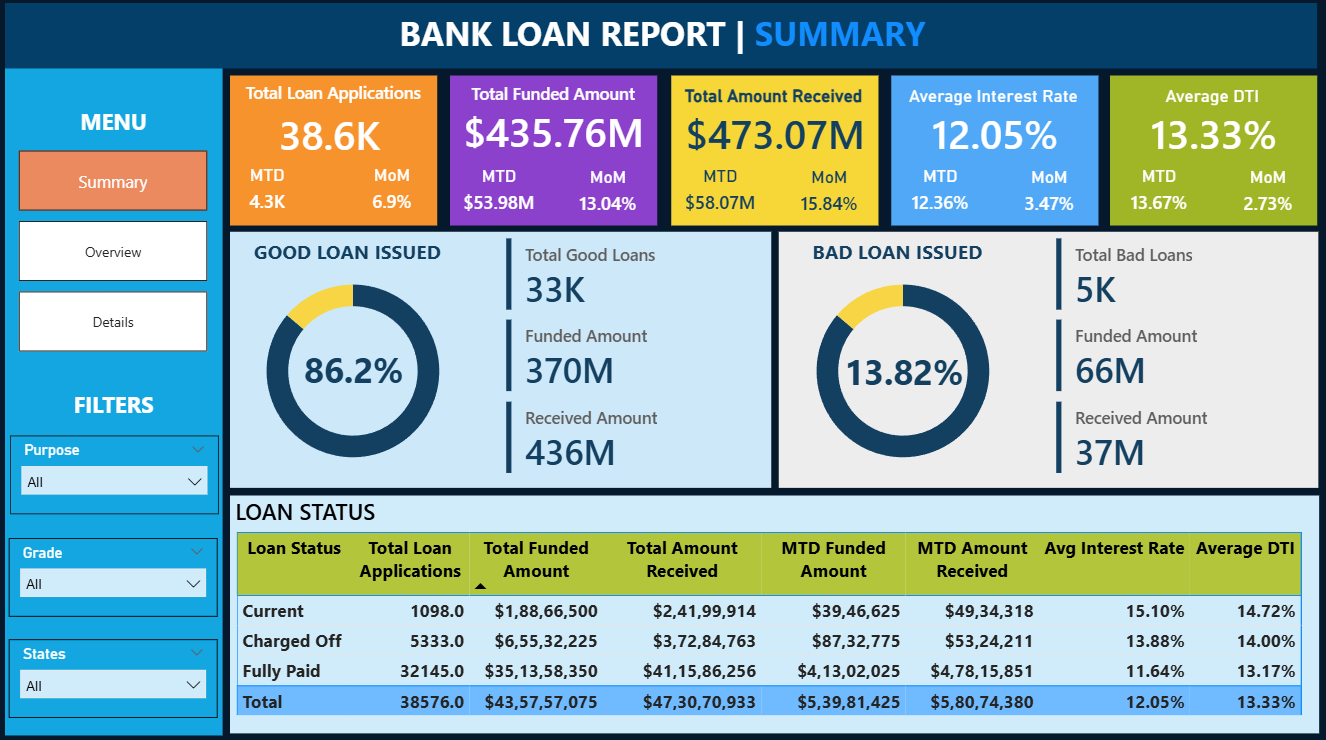

What the dashboard file says about the page in this screenshot:
{"tool":"powerbi","page":{"name":"Summary","canvas":[1280,720],"ordinal":0},"visuals":[{"type":"shape","box":[4.3,4.3,210,707],"z":0},{"type":"group","id":"g1","title":"Total Amount Received","box":[222,74.6,200,145],"z":0,"group":"g8"},{"type":"shape","box":[222,74.6,200,145],"z":0,"group":"g1"},{"type":"shape","box":[434.3,74.6,200,145],"z":0,"group":"g5"},{"type":"shape","box":[648.5,74.6,200,145],"z":0,"group":"g6"},{"type":"shape","box":[860.2,74.6,200,145],"z":0,"group":"g7"},{"type":"shape","box":[1071.6,74.6,200,145],"z":0,"group":"g9"},{"type":"group","id":"g2","title":"Group 2","box":[751.8,225.9,521.2,247.3],"z":0,"group":"g11"},{"type":"shape","box":[751.8,225.9,521.2,247.3],"z":0,"group":"g14"},{"type":"group","id":"g3","title":"Group 2","box":[222,226.9,522.4,247.3],"z":0,"group":"g4"},{"type":"shape","box":[222,226.9,522.4,247.3],"z":0,"group":"g15"},{"type":"group","id":"g4","title":"Good Loan Group","box":[222,226.4,522.3,248.2],"z":500,"group":"g10"},{"type":"shape","box":[4.3,4.3,1266.7,63.5],"z":1000},{"type":"group","id":"g5","title":"Total Funded Amount","box":[434.3,74.6,200,145],"z":1000,"group":"g8"},{"type":"card","fields":{"Values":["KPI measure.Total Funded Amount"]},"box":[440.1,107.6,188.3,42.4],"z":1000,"group":"g5"},{"type":"card","fields":{"Values":["KPI measure.Total Amount Received"]},"box":[654.1,108.4,188.8,43.7],"z":1000,"group":"g6"},{"type":"card","fields":{"Values":["KPI measure.Avg Interest Rate"]},"box":[865.8,108.4,188.8,43.7],"z":1000,"group":"g7"},{"type":"card","fields":{"Values":["KPI measure.Average DTI"]},"box":[1077.2,108.4,188.8,43.7],"z":1000,"group":"g9"},{"type":"card","fields":{"Values":["KPI measure.Total Loan Applications"]},"box":[248.9,111.1,139.2,41.3],"z":1000,"group":"g1"},{"type":"textbox","title":"GOOD LOAN ISSUED","box":[240.3,232.4,190.6,29],"z":1000,"group":"g4"},{"type":"textbox","title":"BAD LOAN ISSUED","box":[771.3,232.5,190.6,29],"z":1000,"group":"g11"},{"type":"textbox","box":[373.7,7.2,530.9,53.4],"z":2000},{"type":"group","id":"g6","title":"Total Amount Received","box":[648.5,74.6,200.3,145],"z":2000,"group":"g8"},{"type":"textbox","box":[226.8,75.1,189.4,32.6],"z":2000,"group":"g1"},{"type":"textbox","box":[438.7,76.3,189.4,38.6],"z":2000,"group":"g5"},{"type":"textbox","title":"Total Amount Received","box":[652.7,84.5,190.2,16.9],"z":2000,"group":"g6"},{"type":"textbox","title":"Average Interest Rate","box":[864.4,84.5,190.2,24],"z":2000,"group":"g7"},{"type":"textbox","title":"Average DTI","box":[1075.8,84.5,190.2,24],"z":2000,"group":"g9"},{"type":"donutChart","fields":{"Category":["financial_loan.Good vs Bad Loan"],"Y":["KPI measure.Total Loan Applications"]},"box":[223.4,251.2,235.3,218.4],"z":2000,"group":"g4"},{"type":"donutChart","fields":{"Category":["financial_loan.Good vs Bad Loan"],"Y":["KPI measure.Total Loan Applications"]},"box":[754.3,251.2,235.3,218.4],"z":2000,"group":"g11"},{"type":"group","id":"g7","title":"Average Interest RAte","box":[860.2,74.6,200.3,145],"z":3000,"group":"g8"},{"type":"card","title":"MTD","fields":{"Values":["KPI measure.MTD Loan Applications"]},"box":[231.4,160.7,52.6,55.4],"z":3000,"group":"g1"},{"type":"card","title":"MTD","fields":{"Values":["KPI measure.MTD Total Funded Amount"]},"box":[435.5,161.8,92.4,55.4],"z":3000,"group":"g5"},{"type":"card","title":"MTD","fields":{"Values":["KPI measure.MTD Total Amount Received"]},"box":[649.7,161.8,92.4,55.4],"z":3000,"group":"g6"},{"type":"card","title":"MTD","fields":{"Values":["KPI measure.MTD Average Interest Rate"]},"box":[861.4,161.8,92.4,55.4],"z":3000,"group":"g7"},{"type":"card","title":"MTD","fields":{"Values":["KPI measure.MTD Average DTI"]},"box":[1072.8,161.8,92.4,55.4],"z":3000,"group":"g9"},{"type":"cardVisual","fields":{"Data":["Good Loan Donut chart Measure.Good Loan Applications","Good Loan Donut chart Measure.Good Loan Total Funded Amount","Good Loan Donut chart Measure.Good Loan Total Receieved Amount"]},"box":[484.2,226.4,232.3,243.8],"z":3000,"group":"g4"},{"type":"cardVisual","fields":{"Data":["Bad Loan Donut chart measure.Bad Loan Applications","Bad Loan Donut chart measure.Bad Loan Total Funded Amount","Bad Loan Donut chart measure.Bad Loan Total Receieved Amount"]},"box":[1015.1,226.4,232.3,243.8],"z":3000,"group":"g11"},{"type":"textbox","box":[55.5,372.8,108.6,42.2],"z":3000},{"type":"card","fields":{"Values":["Donut chart Measure.Good Loan %"]},"box":[247.3,339.1,188.2,43.4],"z":3500,"group":"g4"},{"type":"card","fields":{"Values":["Bad Loan Donut chart measure.Bad Loan %"]},"box":[778.2,339.1,188.2,43.4],"z":3500,"group":"g11"},{"type":"group","id":"g8","title":"KPIs","box":[222,74.6,1049.9,145],"z":4000},{"type":"group","id":"g9","title":"Average DTI","box":[1071.6,74.6,200.3,145],"z":4000,"group":"g8"},{"type":"card","title":"MoM","fields":{"Values":["KPI measure.MoM Loan Applications"]},"box":[347.1,160.7,62,55.4],"z":4000,"group":"g1"},{"type":"card","title":"MoM","fields":{"Values":["KPI measure.MoM Funded Amount"]},"box":[549.3,162.1,76,55.4],"z":4000,"group":"g5"},{"type":"card","title":"MoM","fields":{"Values":["KPI measure.MoM Amount Received"]},"box":[763.5,162.1,76,55.4],"z":4000,"group":"g6"},{"type":"card","title":"MoM","fields":{"Values":["KPI measure.MoM Average Interest Rate"]},"box":[975.2,162.1,76,55.4],"z":4000,"group":"g7"},{"type":"card","title":"MoM","fields":{"Values":["KPI measure.MoM Average DTI"]},"box":[1186.6,162.1,76,55.4],"z":4000,"group":"g9"},{"type":"group","id":"g10","title":"Group 3","box":[222,225.9,1051,248.7],"z":5000},{"type":"tableEx","title":"LOAN STATUS","fields":{"Values":["financial_loan.loan_status","KPI measure.Total Loan Applications","KPI measure.Total Funded Amount","KPI measure.Total Amount Received","KPI measure.MTD Total Funded Amount","KPI measure.MTD Total Amount Received","KPI measure.Avg Interest Rate","KPI measure.Average DTI"]},"box":[222,480.2,1050.8,229.2],"z":6000},{"type":"group","id":"g11","title":"Good Loan Group","box":[751.8,225.9,521.2,247.3],"z":6001,"group":"g10"},{"type":"slicer","fields":{"Values":["financial_loan.address_state"]},"box":[8.4,618.9,201.5,76],"z":7000},{"type":"group","id":"g12","title":"Group 1","box":[751.8,225.9,521.2,247.3],"z":7501,"group":"g2"},{"type":"group","id":"g13","title":"Group 1","box":[222,226.9,522.4,247.3],"z":7501,"group":"g3"},{"type":"slicer","fields":{"Values":["financial_loan.grade"]},"box":[8.4,521.2,201.5,76],"z":8000},{"type":"group","id":"g14","title":"Group 4","box":[751.8,225.9,521.2,247.3],"z":8002,"group":"g12"},{"type":"group","id":"g15","title":"Group 4","box":[222,226.9,522.4,247.3],"z":8002,"group":"g13"},{"type":"slicer","fields":{"Values":["financial_loan.purpose"]},"box":[9.7,422.3,201.5,76],"z":9000},{"type":"pageNavigator","box":[18.1,147.2,182.2,194.2],"z":10000},{"type":"textbox","box":[55.5,98.9,108.6,42.2],"z":11000}]}

Visuals, with their boxes in screenshot pixels (x1, y1, x2, y2), scaled from the page's 1280x720 canvas onto the 1326x740 screenshot:
shape: detection(4, 4, 222, 731)
"Total Amount Received" group: detection(230, 77, 437, 226)
shape: detection(230, 77, 437, 226)
shape: detection(450, 77, 657, 226)
shape: detection(672, 77, 879, 226)
shape: detection(891, 77, 1098, 226)
shape: detection(1110, 77, 1317, 226)
"Group 2" group: detection(779, 232, 1319, 486)
shape: detection(779, 232, 1319, 486)
"Group 2" group: detection(230, 233, 771, 487)
shape: detection(230, 233, 771, 487)
"Good Loan Group" group: detection(230, 233, 771, 488)
shape: detection(4, 4, 1317, 70)
"Total Funded Amount" group: detection(450, 77, 657, 226)
card - KPI measure.Total Funded Amount: detection(456, 111, 651, 154)
card - KPI measure.Total Amount Received: detection(678, 111, 873, 156)
card - KPI measure.Avg Interest Rate: detection(897, 111, 1092, 156)
card - KPI measure.Average DTI: detection(1116, 111, 1311, 156)
card - KPI measure.Total Loan Applications: detection(258, 114, 402, 157)
"GOOD LOAN ISSUED" textbox: detection(249, 239, 446, 269)
"BAD LOAN ISSUED" textbox: detection(799, 239, 996, 269)
textbox: detection(387, 7, 937, 62)
"Total Amount Received" group: detection(672, 77, 879, 226)
textbox: detection(235, 77, 431, 111)
textbox: detection(454, 78, 651, 118)
"Total Amount Received" textbox: detection(676, 87, 873, 104)
"Average Interest Rate" textbox: detection(895, 87, 1092, 112)
"Average DTI" textbox: detection(1114, 87, 1311, 112)
donutChart - financial_loan.Good vs Bad Loan x KPI measure.Total Loan Applications: detection(231, 258, 475, 483)
donutChart - financial_loan.Good vs Bad Loan x KPI measure.Total Loan Applications: detection(781, 258, 1025, 483)
"Average Interest RAte" group: detection(891, 77, 1099, 226)
"MTD" card: detection(240, 165, 294, 222)
"MTD" card: detection(451, 166, 547, 223)
"MTD" card: detection(673, 166, 769, 223)
"MTD" card: detection(892, 166, 988, 223)
"MTD" card: detection(1111, 166, 1207, 223)
cardVisual - Good Loan Donut chart Measure.Good Loan Applications x Good Loan Donut chart Measure.Good Loan Total Funded Amount: detection(502, 233, 742, 483)
cardVisual - Bad Loan Donut chart measure.Bad Loan Applications x Bad Loan Donut chart measure.Bad Loan Total Funded Amount: detection(1052, 233, 1292, 483)
textbox: detection(57, 383, 170, 427)
card - Donut chart Measure.Good Loan %: detection(256, 349, 451, 393)
card - Bad Loan Donut chart measure.Bad Loan %: detection(806, 349, 1001, 393)
"KPIs" group: detection(230, 77, 1318, 226)
"Average DTI" group: detection(1110, 77, 1318, 226)
"MoM" card: detection(360, 165, 424, 222)
"MoM" card: detection(569, 167, 648, 224)
"MoM" card: detection(791, 167, 870, 224)
"MoM" card: detection(1010, 167, 1089, 224)
"MoM" card: detection(1229, 167, 1308, 224)
"Group 3" group: detection(230, 232, 1319, 488)
"LOAN STATUS" tableEx: detection(230, 494, 1319, 729)
"Good Loan Group" group: detection(779, 232, 1319, 486)
slicer - financial_loan.address_state: detection(9, 636, 217, 714)
"Group 1" group: detection(779, 232, 1319, 486)
"Group 1" group: detection(230, 233, 771, 487)
slicer - financial_loan.grade: detection(9, 536, 217, 614)
"Group 4" group: detection(779, 232, 1319, 486)
"Group 4" group: detection(230, 233, 771, 487)
slicer - financial_loan.purpose: detection(10, 434, 219, 512)
pageNavigator: detection(19, 151, 207, 351)
textbox: detection(57, 102, 170, 145)
